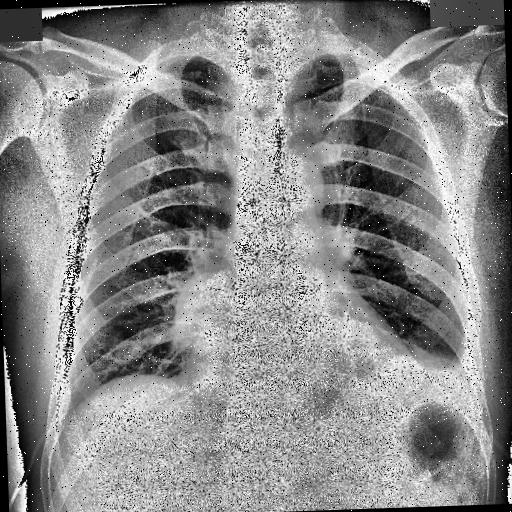0- Aortic enlargement: (264, 153, 327, 222)
10- Pleural effusion: (426, 326, 484, 434), (422, 332, 476, 386), (434, 340, 476, 394)
11- Pleural thickening: (434, 340, 476, 394)
3- Cardiomegaly: (188, 288, 419, 394), (184, 296, 414, 396), (181, 336, 423, 420)
8- Nodule-Mass: (168, 259, 240, 356), (172, 270, 246, 354), (174, 266, 240, 353)
9- Other lesion: (174, 266, 240, 353)
